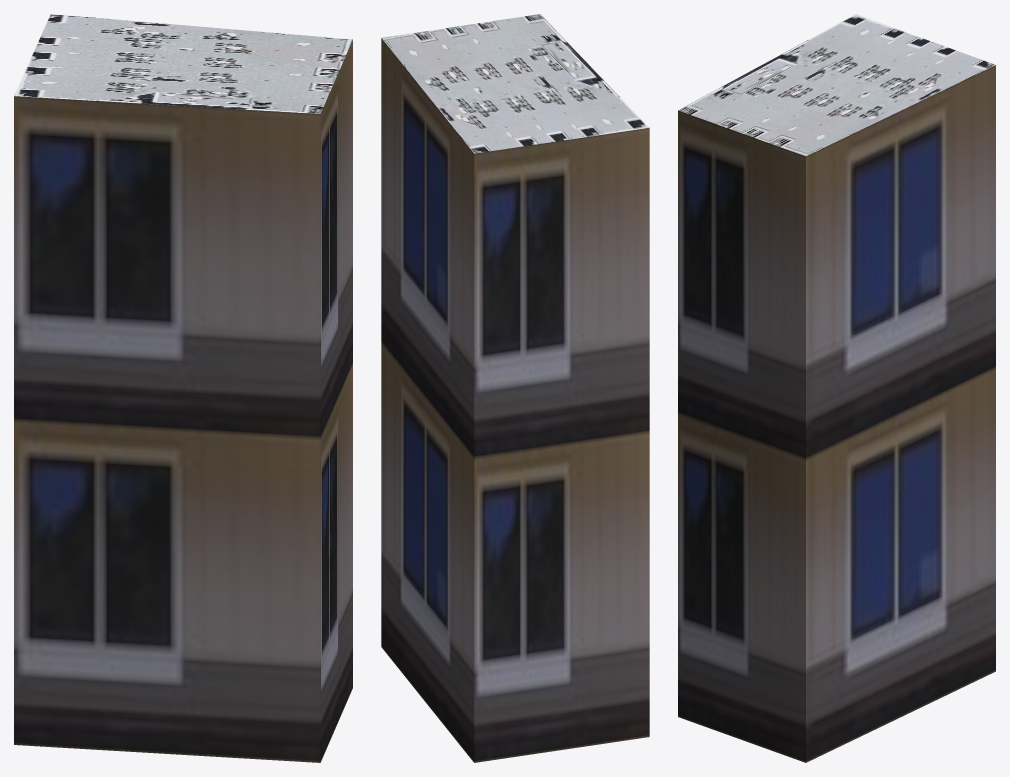
File: ResTex__1367.fbx
The picture shows the model from 3 angles, left to right: view 1: azimuth 30°, elevation 25°; view 2: azimuth 150°, elevation 25°; view 3: azimuth 270°, elevation 25°; orthographic projection. The views are drawn at different scales.
Parts seen in each view (by area): view 1: CityEngineMaterial_5_m, CityEngineMaterial_m; view 2: CityEngineMaterial_5_m, CityEngineMaterial_m; view 3: CityEngineMaterial_5_m, CityEngineMaterial_m.
Part boxes in pixels (x1,y1,x2,y2): CityEngineMaterial_5_m: (14,40,352,762); CityEngineMaterial_m: (14,14,352,113); CityEngineMaterial_5_m: (381,38,649,762); CityEngineMaterial_m: (382,14,649,153); CityEngineMaterial_5_m: (678,65,995,762); CityEngineMaterial_m: (678,14,995,156).
Size of the model in its own units: 3.02 by 6 by 2.85.
2 materials, 2 textured.
